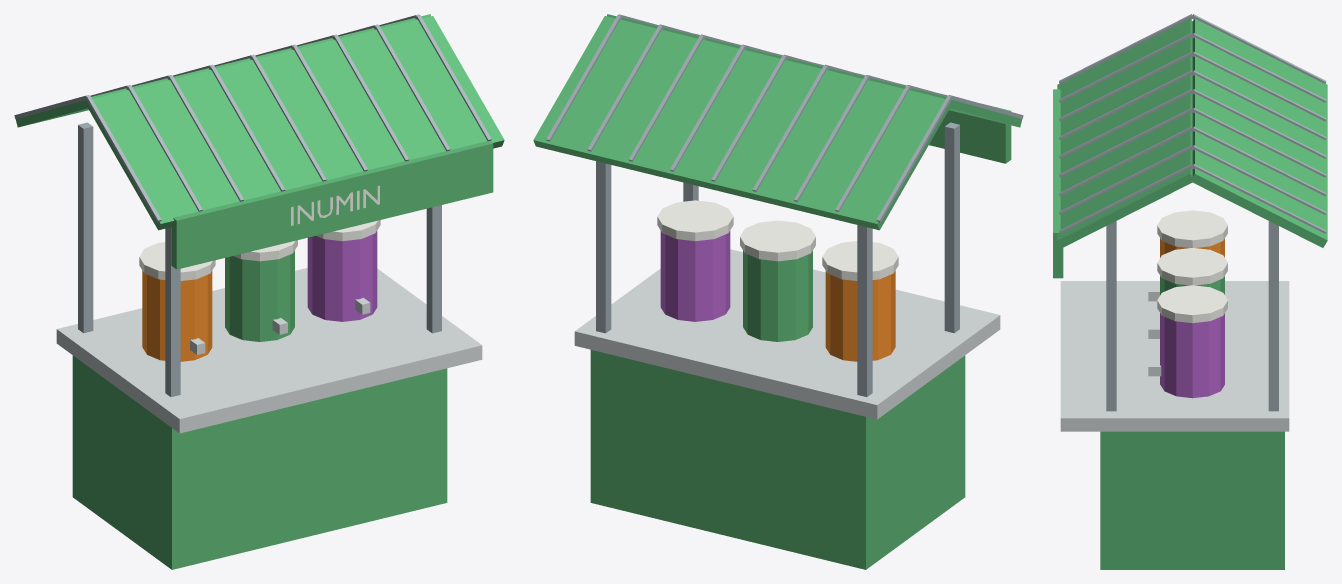
File: TR_Kiosk_INUMIN.glb
The picture shows the model from 3 angles, left to right: view 1: azimuth 30°, elevation 25°; view 2: azimuth 150°, elevation 25°; view 3: azimuth 270°, elevation 25°; orthographic projection. The views are drawn at different scales.
Parts seen in each view (by area): view 1: TR_Kiosk_INUMIN; view 2: TR_Kiosk_INUMIN; view 3: TR_Kiosk_INUMIN.
Boxes of the visible parts, bbox=[...] form: TR_Kiosk_INUMIN: bbox=[14, 14, 504, 569]; TR_Kiosk_INUMIN: bbox=[533, 14, 1023, 569]; TR_Kiosk_INUMIN: bbox=[1053, 14, 1327, 569].
Size of the model in its own units: 2.51 by 3.1 by 1.87.
